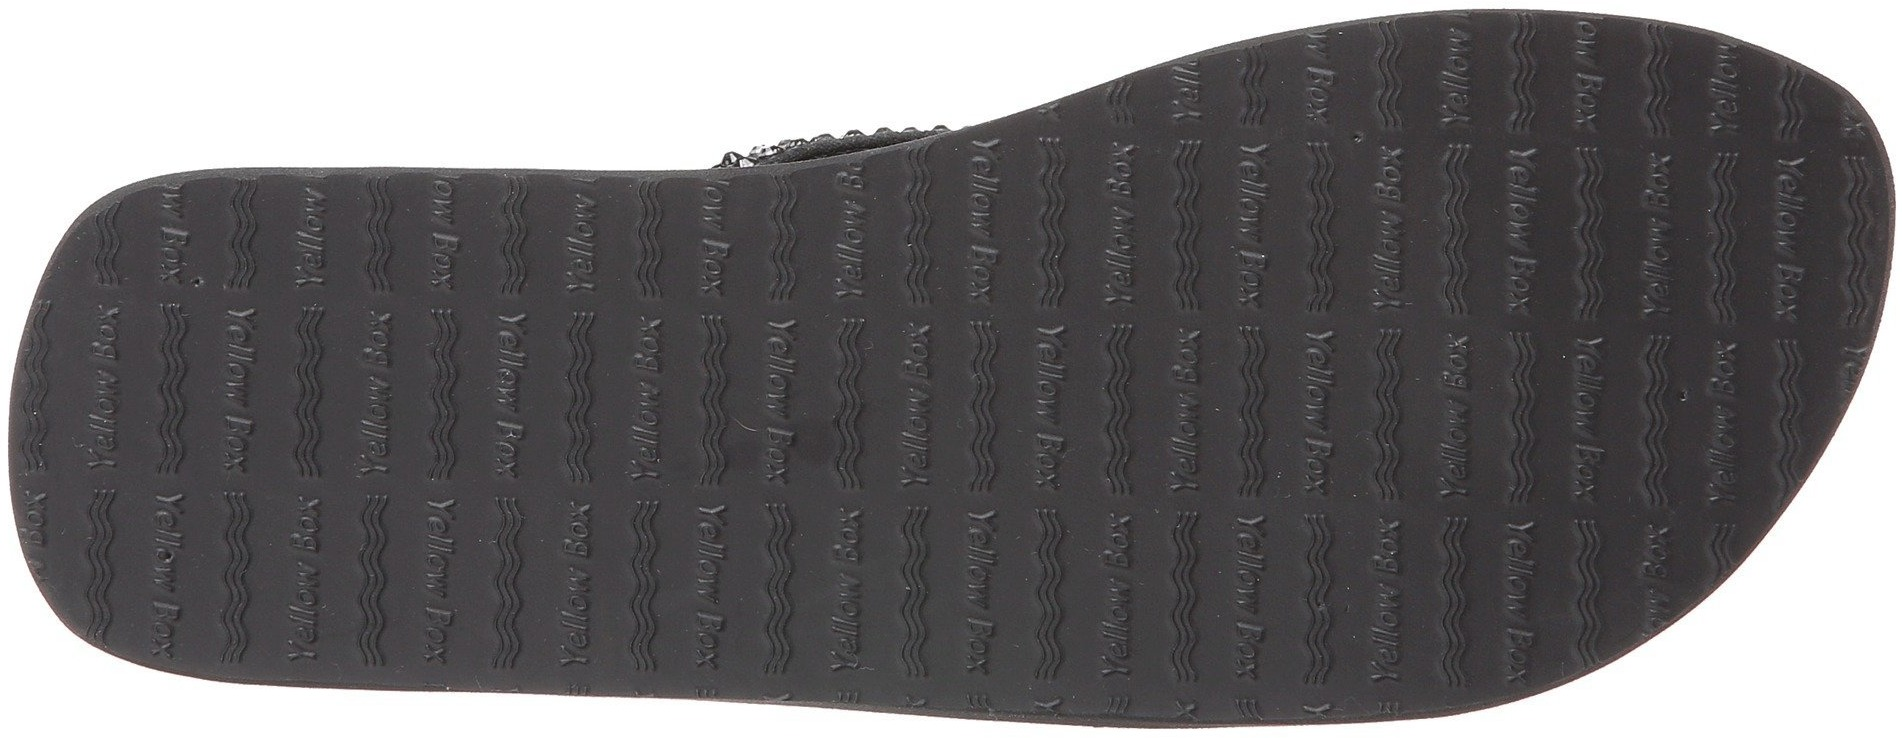chevron: (687, 299, 748, 503), (949, 311, 1013, 500), (1094, 316, 1154, 511), (412, 306, 473, 482), (818, 310, 882, 470), (284, 299, 336, 479), (1299, 127, 1345, 325), (1435, 134, 1482, 325), (556, 299, 600, 496), (150, 299, 190, 492), (1574, 144, 1606, 327)
text: (818, 494, 892, 685), (1224, 132, 1288, 322), (1163, 316, 1220, 509), (888, 312, 943, 496), (1088, 517, 1145, 688), (82, 293, 132, 486), (211, 301, 264, 479), (1368, 141, 1419, 327), (623, 301, 680, 464), (1232, 496, 1281, 687), (353, 301, 400, 492), (1433, 336, 1480, 510), (762, 305, 804, 490), (480, 316, 526, 484), (1030, 322, 1074, 499), (966, 135, 1013, 296), (1104, 132, 1145, 312)
